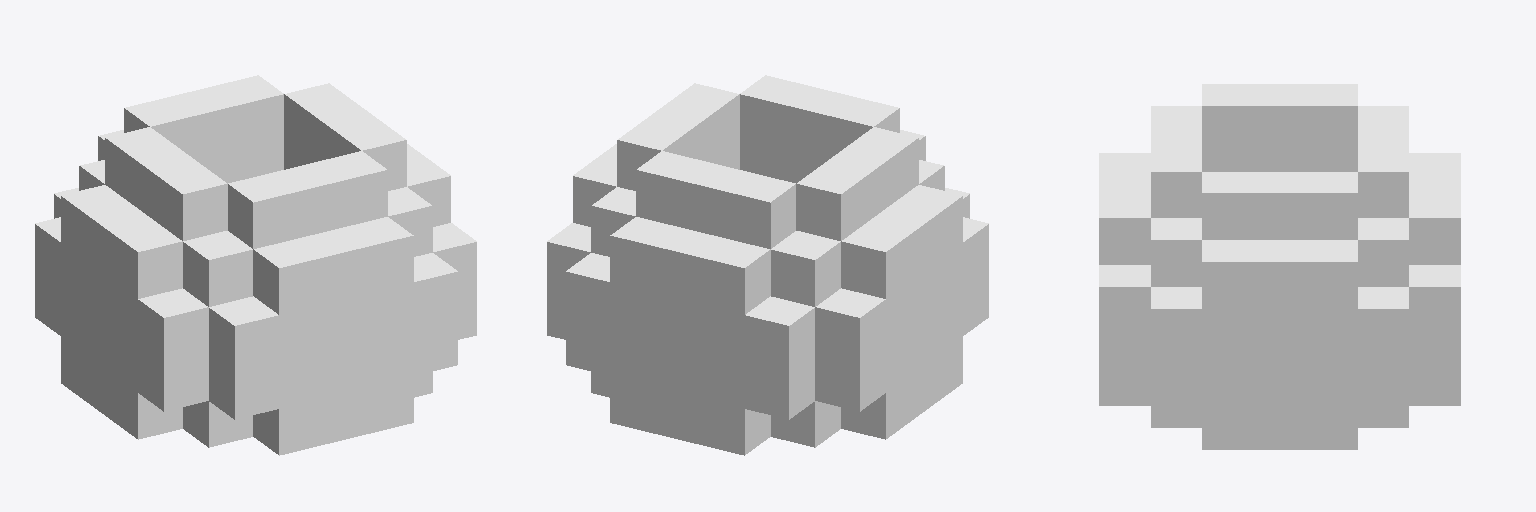
The model's file is WorkBench-1.obj.
The picture shows the model from 3 angles: view 1: azimuth 30°, elevation 25°; view 2: azimuth 150°, elevation 25°; view 3: azimuth 270°, elevation 25°; orthographic projection.
Parts seen in each view (by area): view 1: object 1; view 2: object 1; view 3: object 1.
Part boxes in pixels (left/top/right/bottom): object 1: left=35, top=75, right=476, bottom=455; object 1: left=547, top=75, right=988, bottom=455; object 1: left=1099, top=84, right=1460, bottom=449.
Bounding box in the file's own units: 0.7 × 0.5 × 0.7.